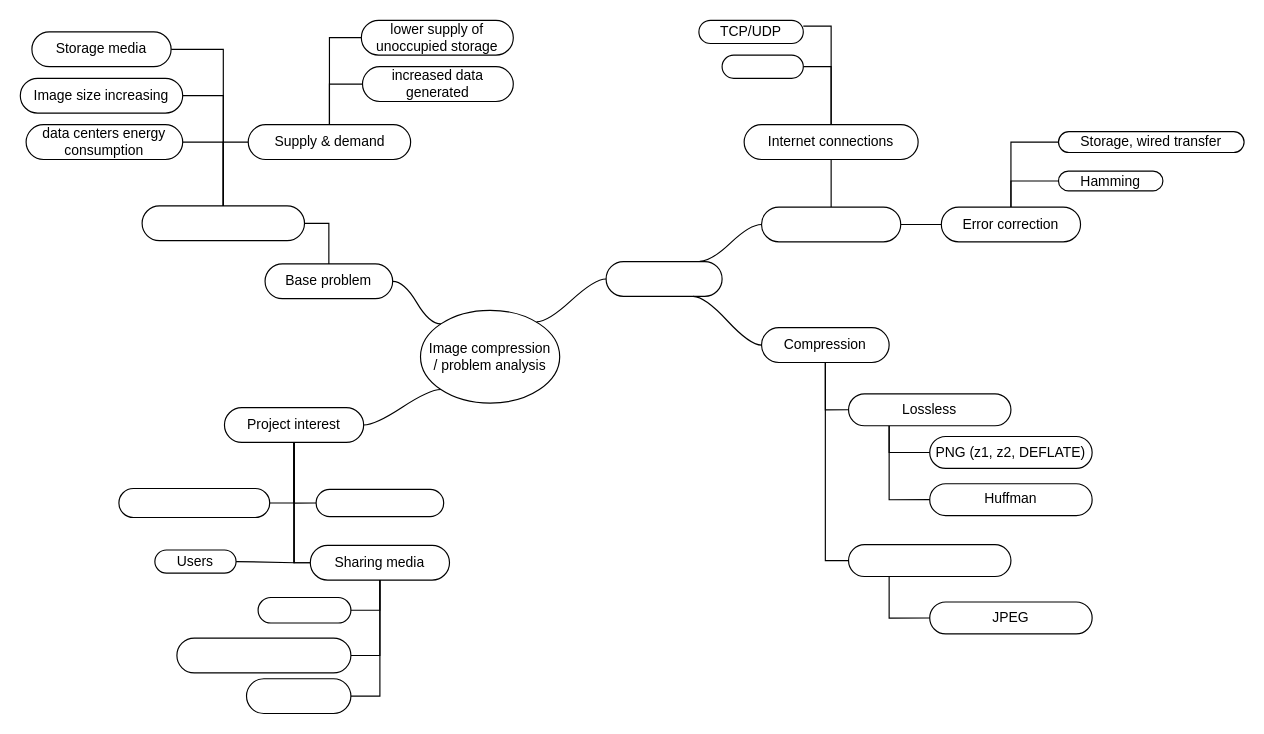
Image size: 1264x734. Some labels were removed from this diagram. Each missing label, with the centre of its shape:
Algorithms: (x=663, y=278)
Backup services: (x=379, y=502)
Communication: (x=830, y=224)
Discord: (x=304, y=609)
Google, Dropbox: (x=194, y=502)
HTTP: (x=762, y=66)
Instagram / facebook: (x=263, y=655)
Lossy: (x=929, y=560)
Snapchat: (x=298, y=696)
Storage problems: (x=222, y=223)
